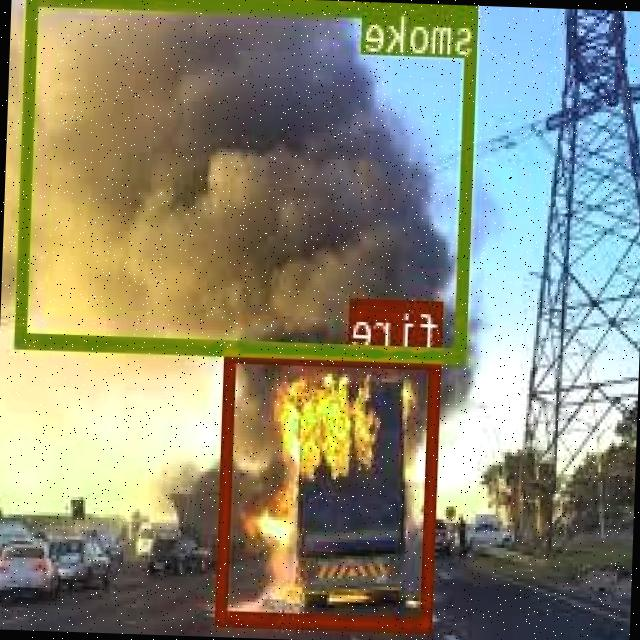fire: (218, 345, 442, 628)
smoke: (18, 0, 480, 361)
